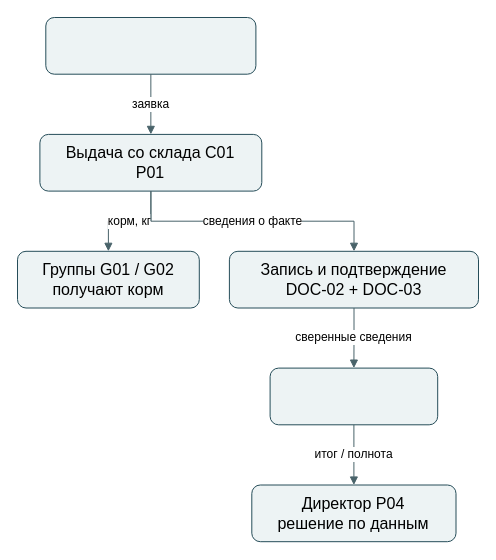
Image size: 496x560. Some labels were removed from this diagram. The centre of each missing label's shape, as x and y in pixels:
"Потребность группы DOC-01" belongs at point 150,45.
"Суточный отчёт DOC-04" belongs at point 353,396.
